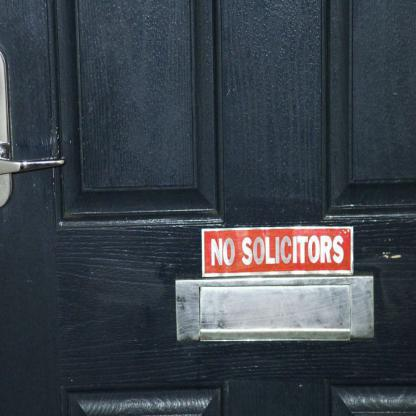door: (0, 0, 415, 415)
lever: (0, 154, 66, 179)
